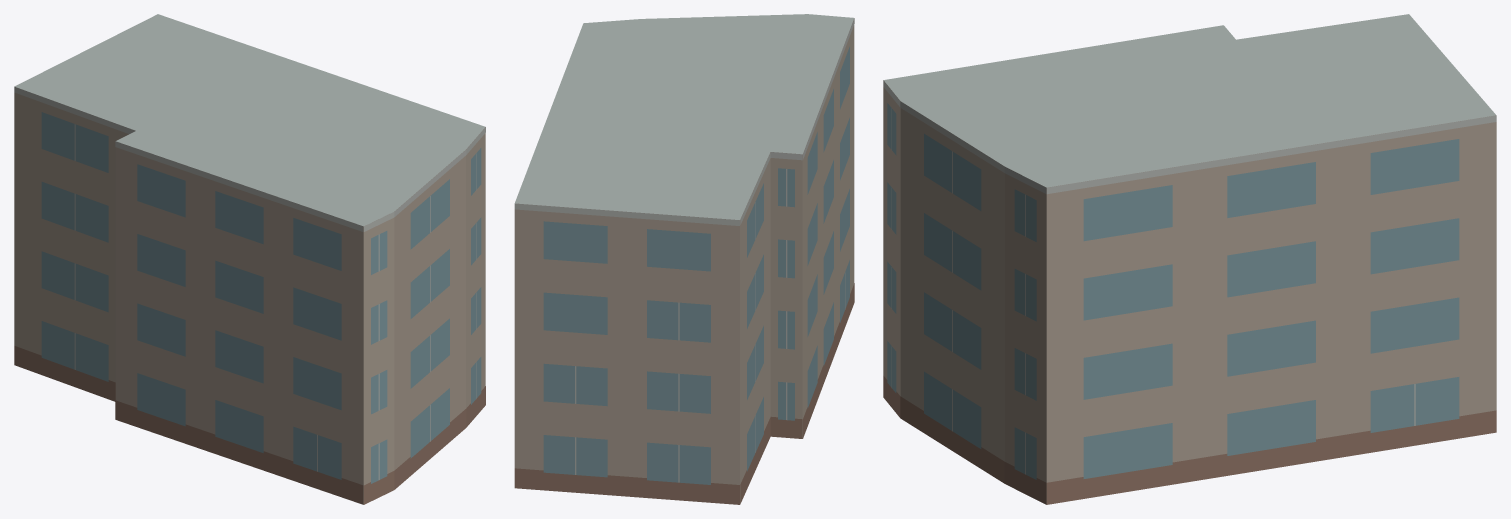
File: survey-upis-33039727.glb
3 renders of one model, left to right at view 1: azimuth 30°, elevation 25°; view 2: azimuth 150°, elevation 25°; view 3: azimuth 270°, elevation 25°, orthographic. The views are drawn at different scales.
Parts seen in each view (by area): view 1: survey-upis-33039727.tmp; view 2: survey-upis-33039727.tmp; view 3: survey-upis-33039727.tmp.
Part boxes in pixels (<box>): survey-upis-33039727.tmp: <box>14,14,485,504</box>; survey-upis-33039727.tmp: <box>514,14,854,504</box>; survey-upis-33039727.tmp: <box>883,14,1496,504</box>.
Size of the model in its own units: 13.62 by 11.6 by 20.33.
